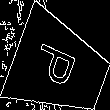P_E: (33, 41, 86, 94)
